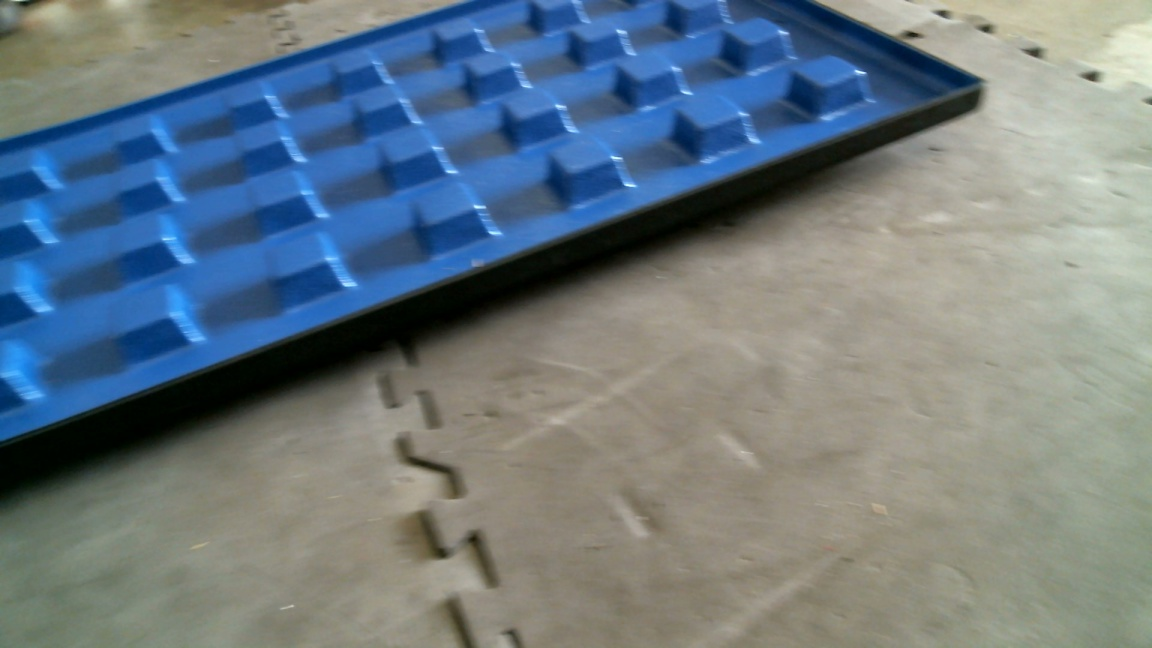blue_foundation: (1, 1, 990, 503)
